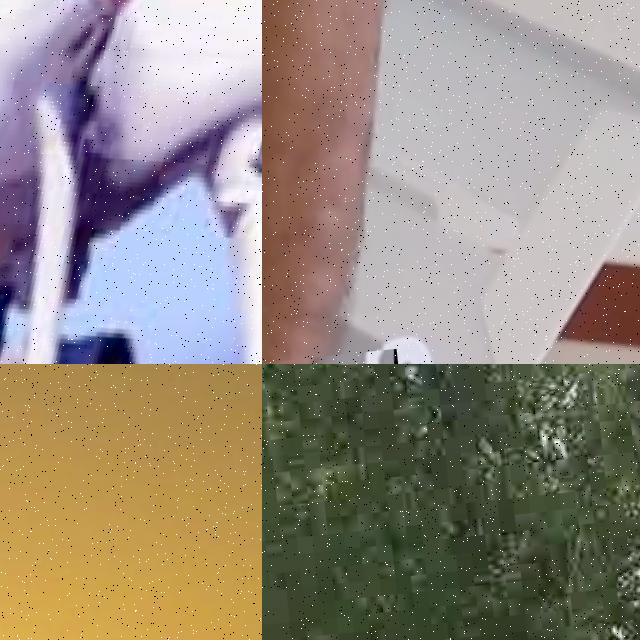drone: (0, 0, 262, 364)
